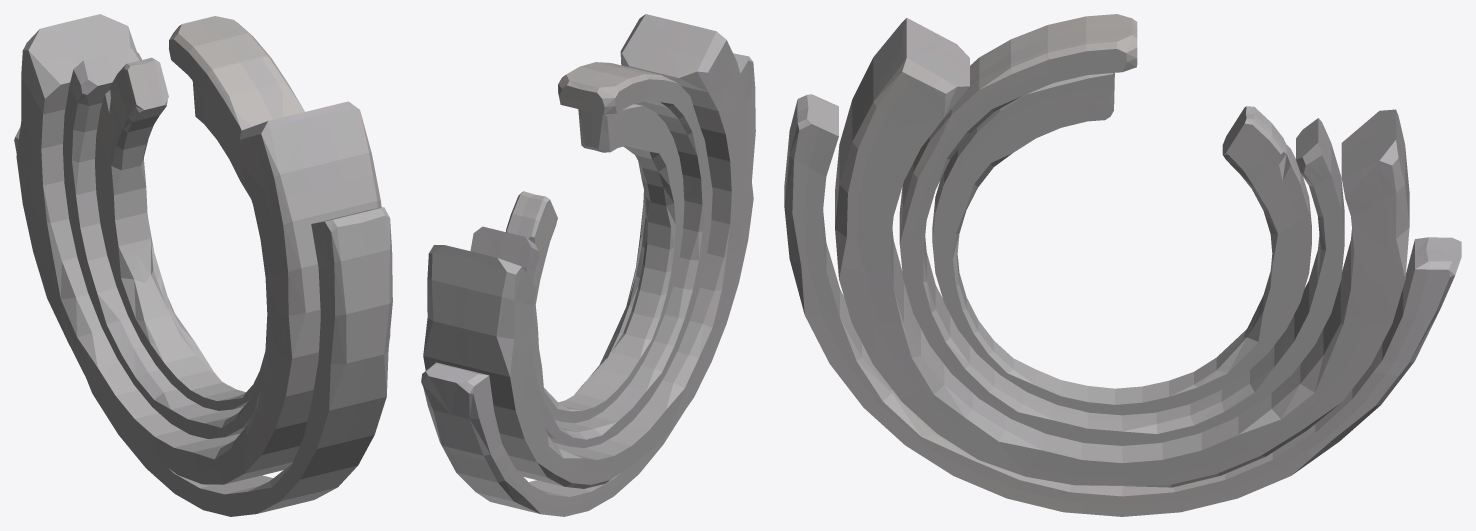
Rendered from Potal.fbx.
The picture shows the model from 3 angles, left to right: view 1: azimuth 30°, elevation 25°; view 2: azimuth 150°, elevation 25°; view 3: azimuth 270°, elevation 25°; orthographic projection. The views are drawn at different scales.
Parts seen in each view (by area): view 1: SM_Portal_01.mo; view 2: SM_Portal_01.mo; view 3: SM_Portal_01.mo.
Part boxes in pixels (box(x1,y1,x2,y2)): SM_Portal_01.mo: box(14, 14, 392, 516); SM_Portal_01.mo: box(421, 14, 755, 516); SM_Portal_01.mo: box(784, 14, 1461, 516).
Size of the model in its own units: 98.66 by 437 by 564.
2 materials, 2 textured.
